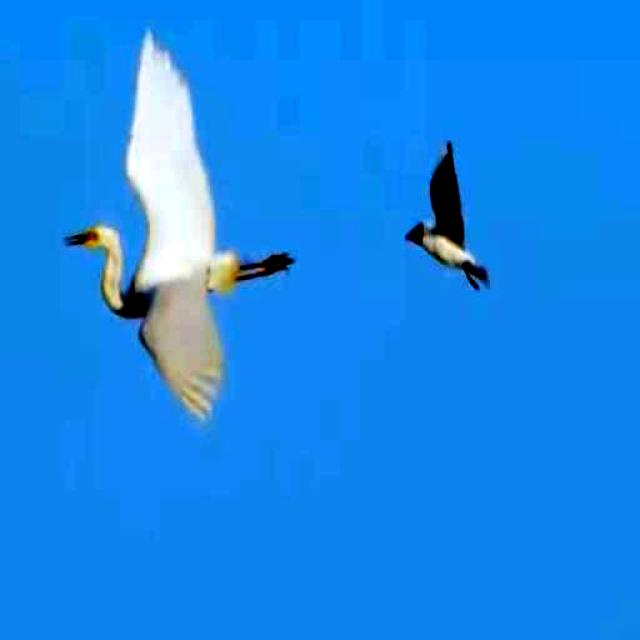airplane: (68, 19, 296, 428), (406, 140, 495, 299)
